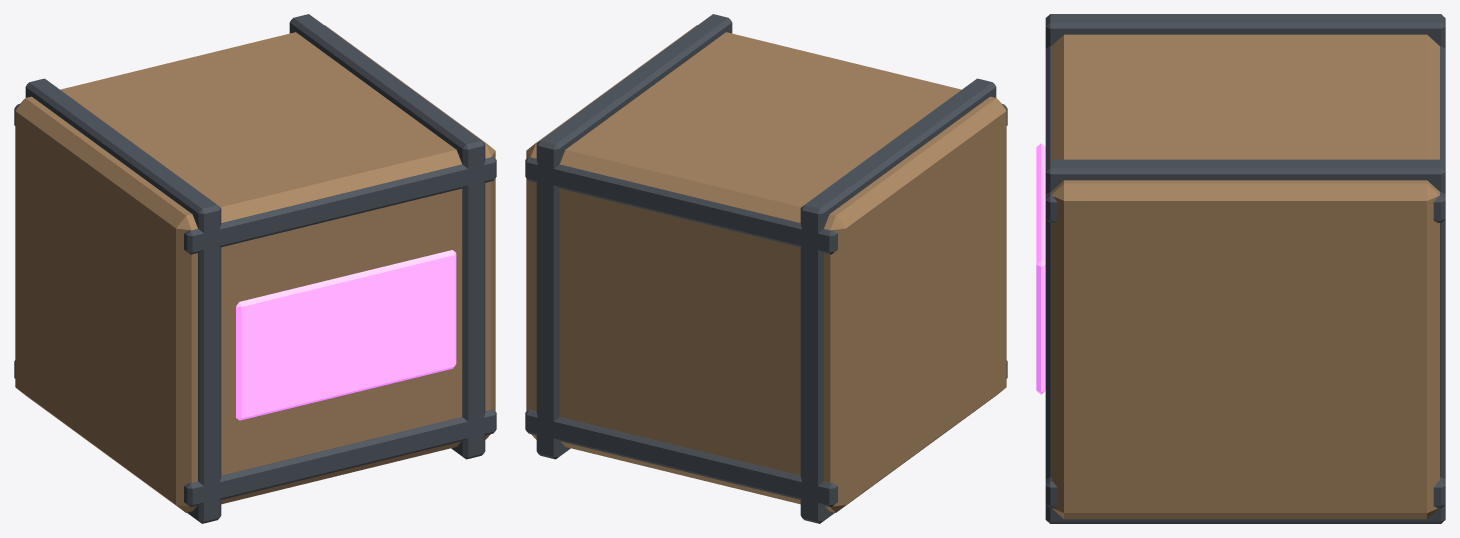
File: la-supplycrate.glb
3 renders of one model, left to right at view 1: azimuth 30°, elevation 25°; view 2: azimuth 150°, elevation 25°; view 3: azimuth 270°, elevation 25°, orthographic. The views are drawn at different scales.
Parts seen in each view (by area): view 1: Crate_Body, AD_SURFACE_CRATE, Crate_VerticalBrace, Crate_VerticalBrace.001, Crate_HorizontalBrace.001, Crate_HorizontalBrace; view 2: Crate_Body, Crate_VerticalBrace, Crate_VerticalBrace.001, Crate_HorizontalBrace.001, Crate_HorizontalBrace; view 3: Crate_Body, Crate_VerticalBrace.001, Crate_VerticalBrace, AD_SURFACE_CRATE, Crate_HorizontalBrace.001, Crate_HorizontalBrace.
Boxes of the visible parts, x1,y1,x2,y2 form: Crate_Body: (15, 25, 495, 512); AD_SURFACE_CRATE: (236, 250, 456, 420); Crate_VerticalBrace: (25, 78, 221, 523); Crate_VerticalBrace.001: (289, 14, 485, 459); Crate_HorizontalBrace.001: (14, 104, 496, 254); Crate_HorizontalBrace: (14, 360, 496, 507); Crate_Body: (526, 25, 1006, 512); Crate_VerticalBrace: (800, 78, 996, 523); Crate_VerticalBrace.001: (536, 14, 732, 459); Crate_HorizontalBrace.001: (525, 104, 1007, 254); Crate_HorizontalBrace: (525, 360, 1007, 507); Crate_Body: (1051, 34, 1439, 519); Crate_VerticalBrace.001: (1045, 159, 1445, 523); Crate_VerticalBrace: (1045, 14, 1445, 48); AD_SURFACE_CRATE: (1036, 143, 1045, 394); Crate_HorizontalBrace.001: (1045, 46, 1445, 222); Crate_HorizontalBrace: (1045, 477, 1445, 508).
Size of the model in its own units: 2.25 by 2.12 by 2.21.
